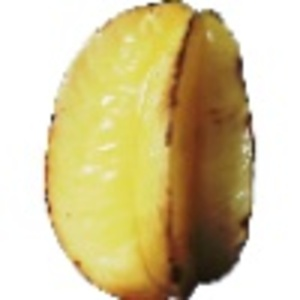carambola: (41, 1, 257, 300)
